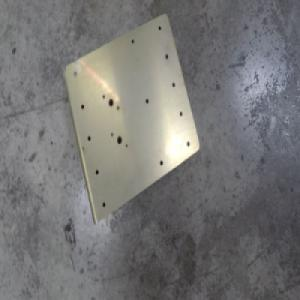MetalSheet: (61, 9, 201, 228)
